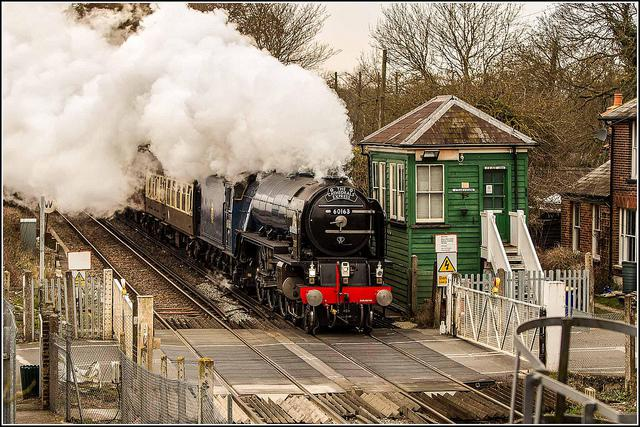Train: (116, 174, 396, 340)
